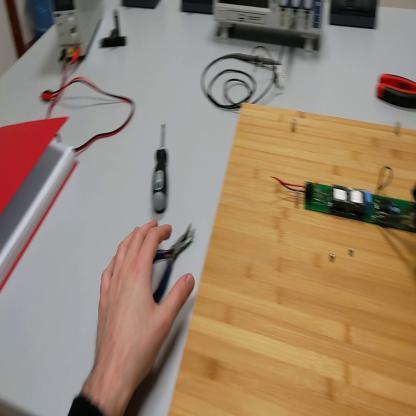hand: (92, 220, 195, 387)
high voltage board: (270, 166, 416, 233)
oscilloscope: (214, 3, 325, 52)
oscilloscope probe tip: (237, 52, 282, 71)
pliers: (153, 222, 205, 304), (378, 65, 416, 112)
power supply: (52, 2, 104, 66)
register: (2, 111, 80, 291)
screwdriver-: (154, 121, 171, 217)
socket: (181, 1, 215, 17), (122, 1, 163, 12)
working area: (169, 93, 416, 415)
